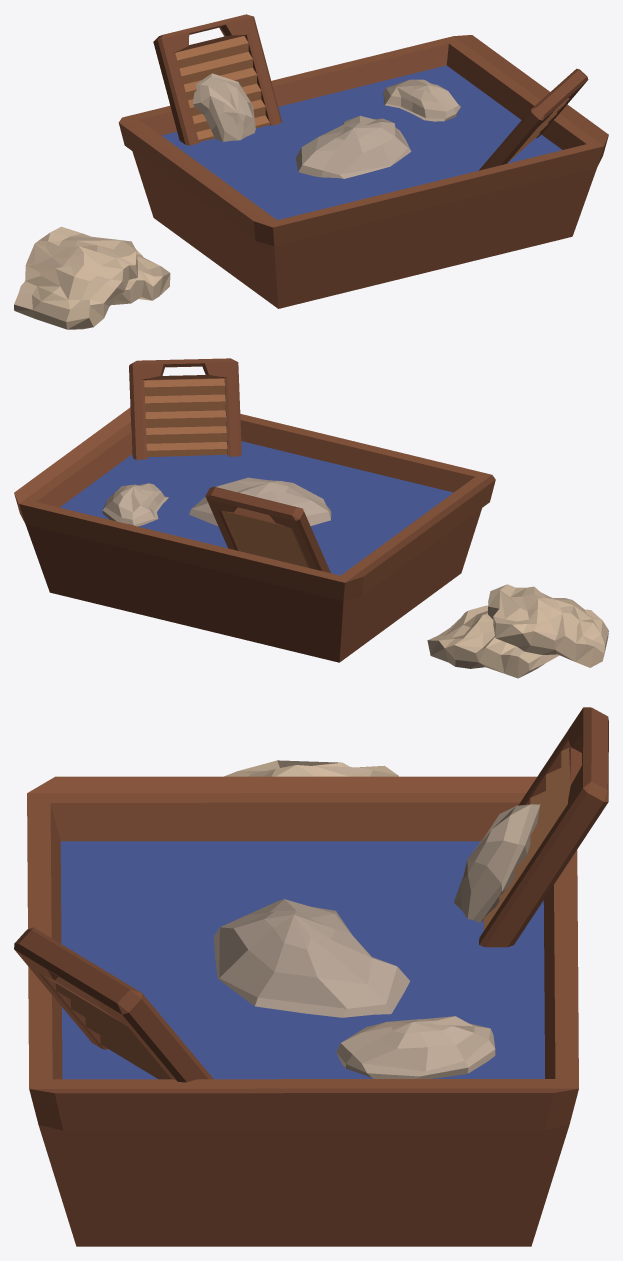
The model's file is washing_wool_2.fbx.
3 views of the same model, one above another, from view 1: azimuth 30°, elevation 25°; view 2: azimuth 150°, elevation 25°; view 3: azimuth 270°, elevation 25° (orthographic). The views are drawn at different scales.
Parts seen in each view (by area): view 1: washing_wool_2, raw_wool.001, wool.009; view 2: washing_wool_2, raw_wool.001; view 3: washing_wool_2, wool.009, raw_wool.001.
Boxes of the visible parts, box(x1,y1,x2,y2) form: washing_wool_2: box(118, 14, 608, 308); raw_wool.001: box(14, 226, 170, 329); wool.009: box(192, 73, 255, 141); washing_wool_2: box(14, 358, 495, 662); raw_wool.001: box(427, 584, 608, 678); washing_wool_2: box(14, 707, 608, 1246); wool.009: box(454, 804, 540, 922); raw_wool.001: box(224, 760, 398, 776).
Bounding box in the file's own units: 178 × 54.29 × 94.69.
